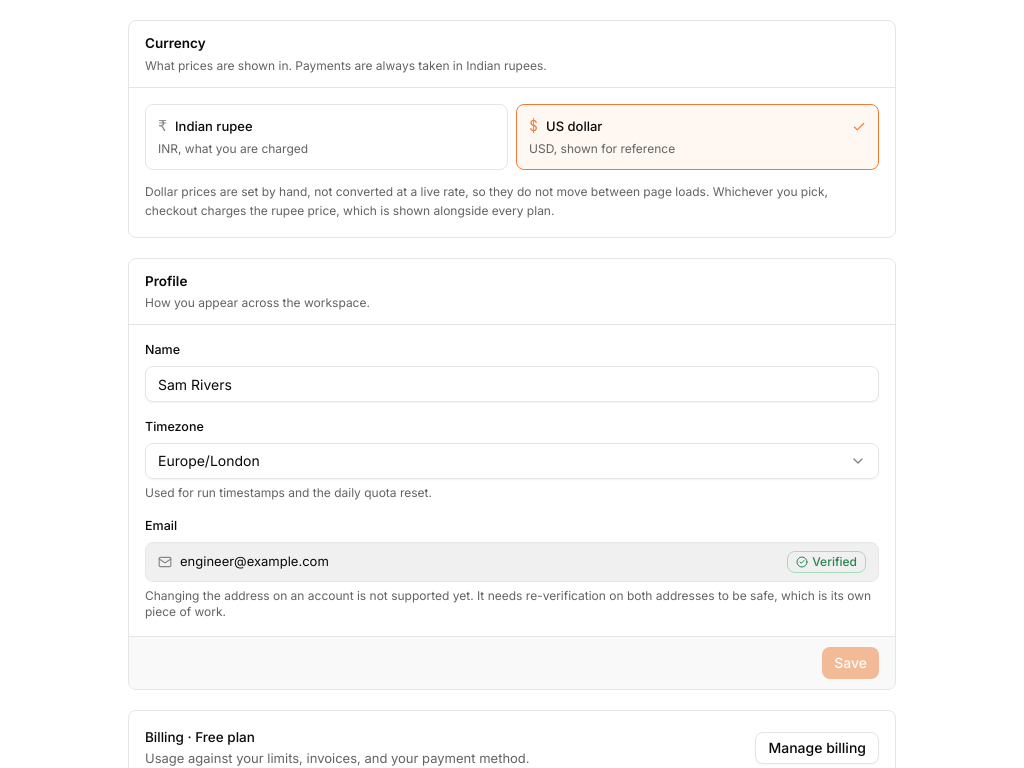
Scenario: profile › cannot be saved until something changes
(page scrolled)
Expected: the button "Save" is disabled, x1=822 y1=647 x2=879 y2=679
Step 1. Type "!" into the field labelled "Name" → (512, 384), box x1=145 y1=366 x2=879 y2=402
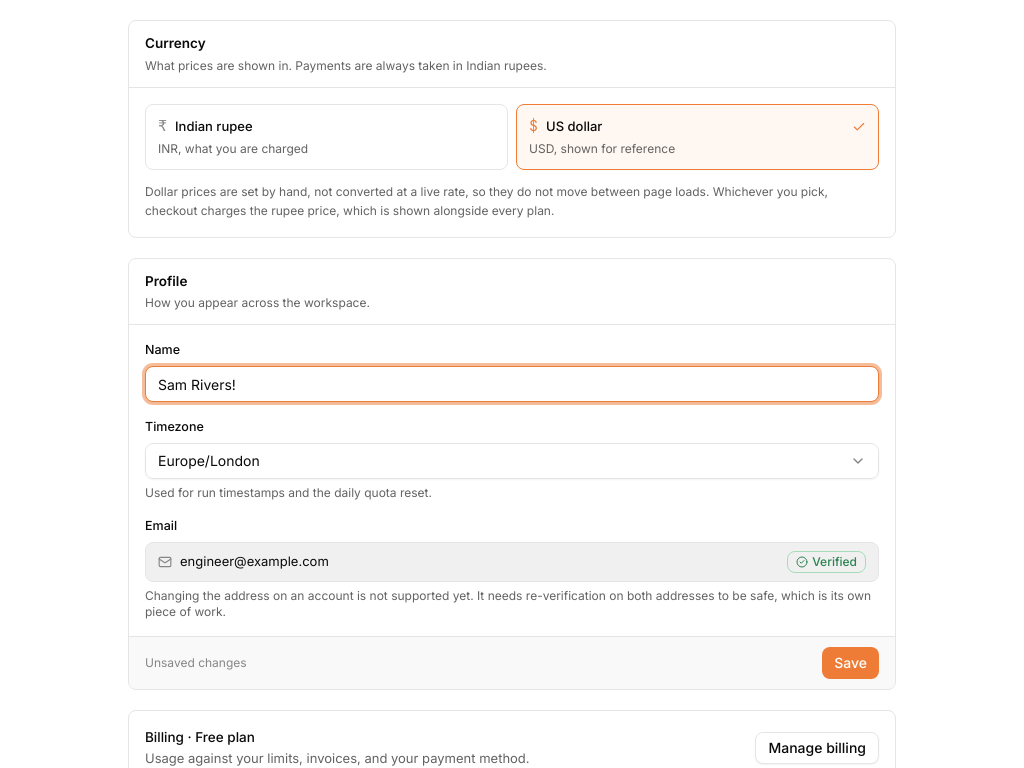
Now the button "Save" is enabled, box x1=822 y1=647 x2=879 y2=679
